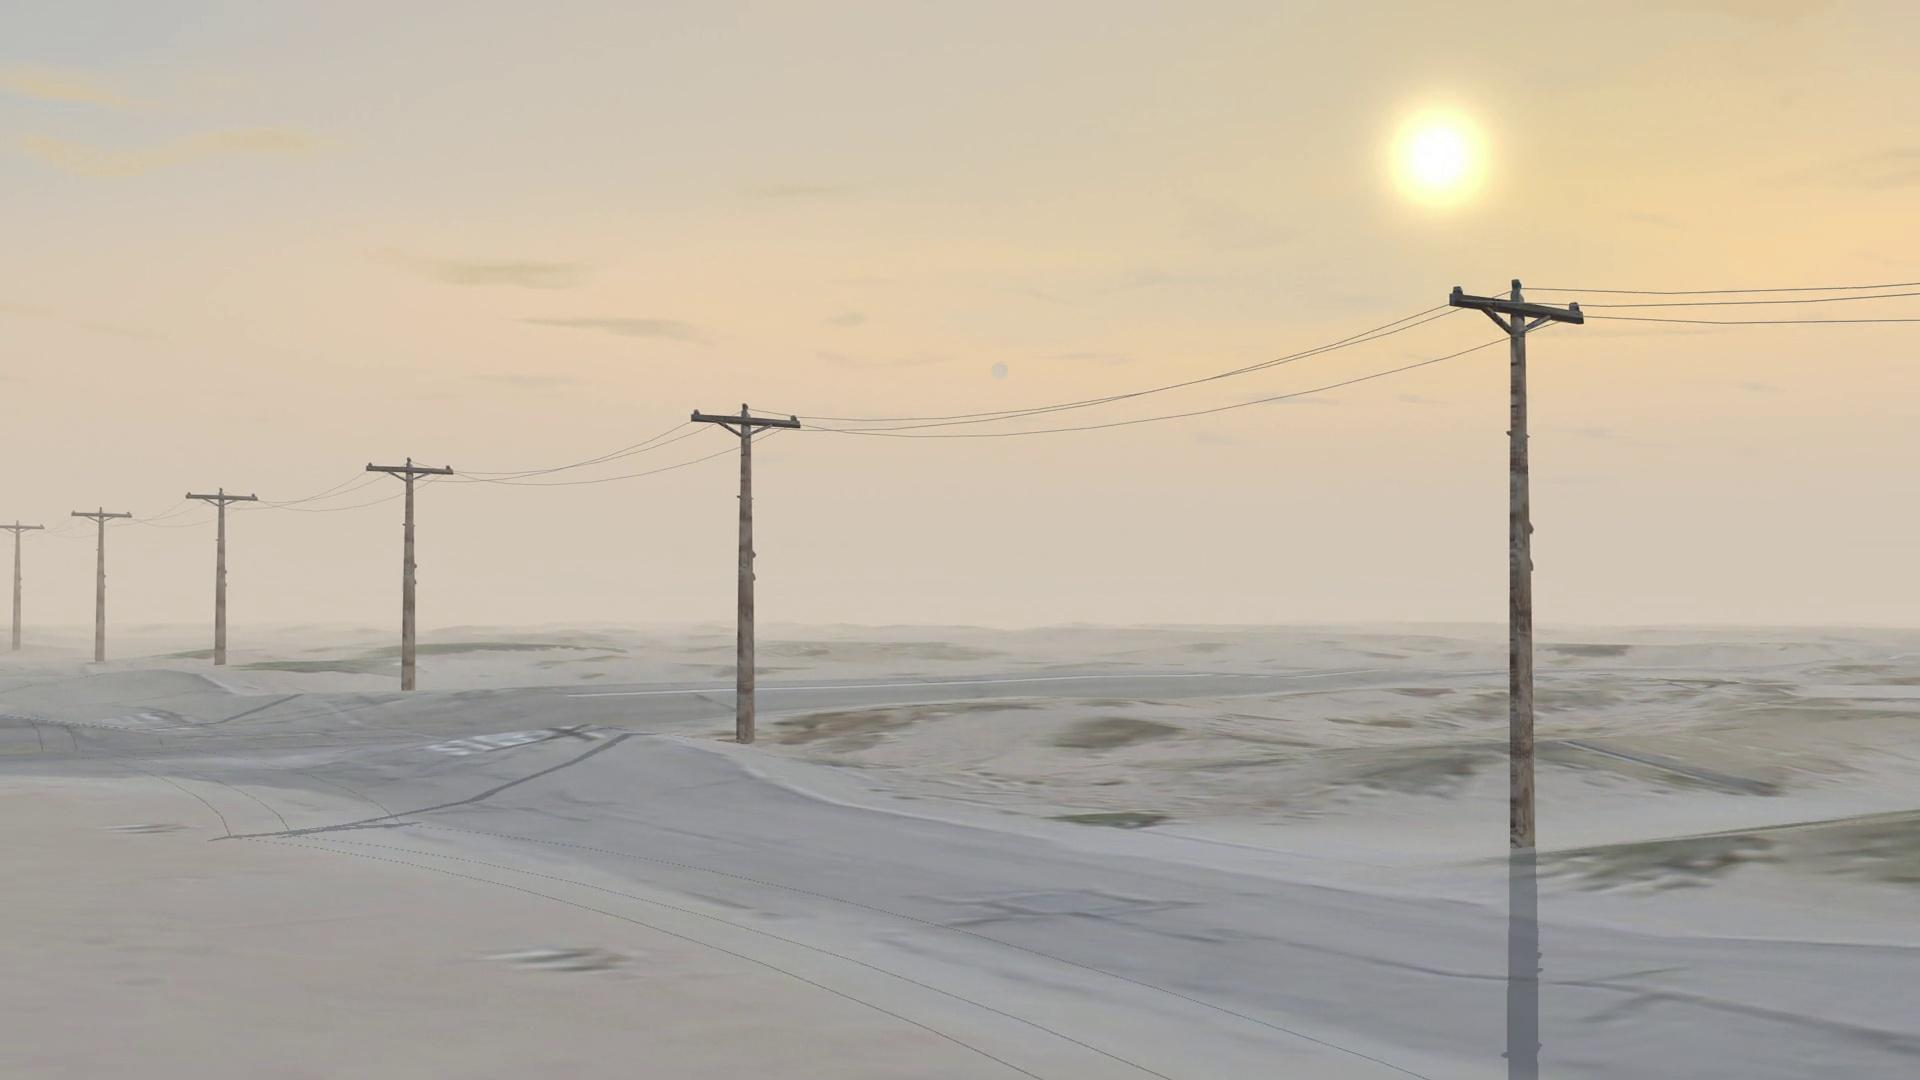cable tower: (1404, 258, 1652, 877), (676, 398, 814, 758), (352, 438, 460, 717), (175, 473, 266, 687), (62, 492, 140, 671), (0, 510, 47, 665)
